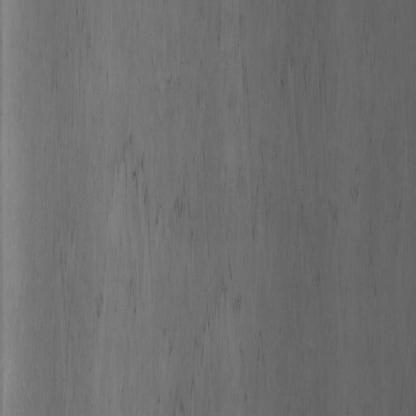silk_spot: (92, 38, 372, 398)
